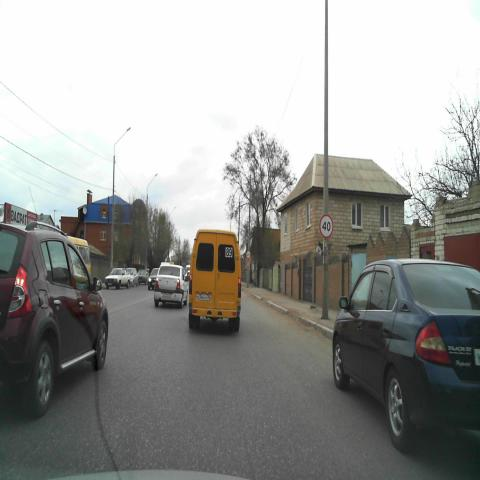3_24: (319, 214, 333, 237)
